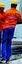hard-hat: (0, 7, 4, 12)
ppe-suit: (0, 0, 11, 56)
